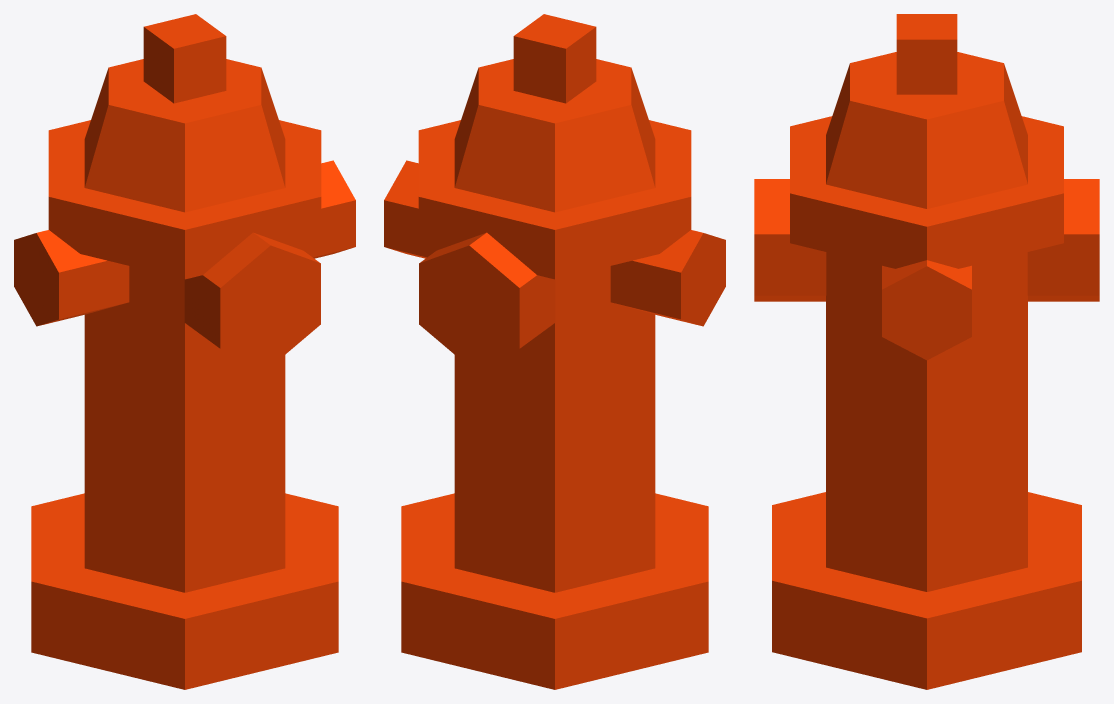
Rendered from FireHydrant.fbx.
3 views of the same model, side by side, from view 1: azimuth 30°, elevation 25°; view 2: azimuth 150°, elevation 25°; view 3: azimuth 270°, elevation 25° (orthographic).
Visible parts, largest first — view 1: SM_Prop_FireHydrant_01; view 2: SM_Prop_FireHydrant_01; view 3: SM_Prop_FireHydrant_01.
Part boxes in pixels (<box>): SM_Prop_FireHydrant_01: <box>14,14,355,689</box>; SM_Prop_FireHydrant_01: <box>384,14,725,689</box>; SM_Prop_FireHydrant_01: <box>754,14,1099,689</box>.
Bounding box in the file's own units: 24.52 × 44.45 × 23.68.
